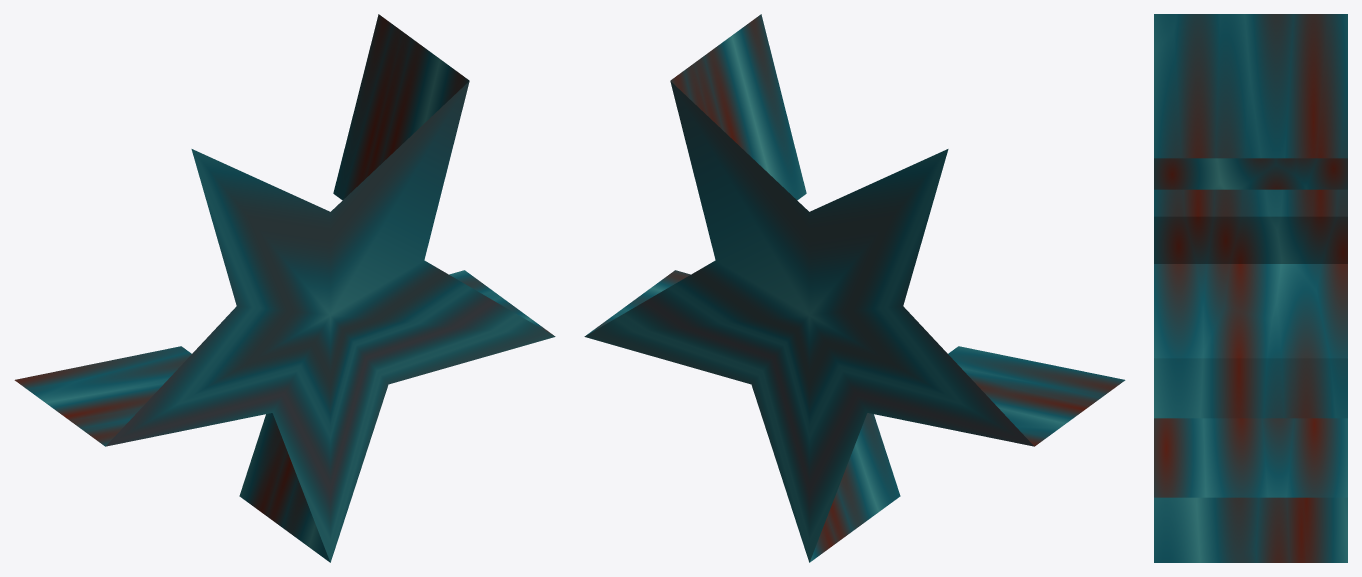
The model's file is star-ocean-c1.glb.
3 views of the same model, side by side, from view 1: azimuth 30°, elevation 25°; view 2: azimuth 150°, elevation 25°; view 3: azimuth 270°, elevation 25° (orthographic). The views are drawn at different scales.
Visible parts, largest first — view 1: world; view 2: world; view 3: world.
Part boxes in pixels (left/top/right/bottom): world: left=14, top=14, right=555, bottom=562; world: left=584, top=14, right=1125, bottom=562; world: left=1154, top=14, right=1347, bottom=562.
Size of the model in its own units: 1.14 by 1.09 by 0.4.
1 material, 1 textured.
